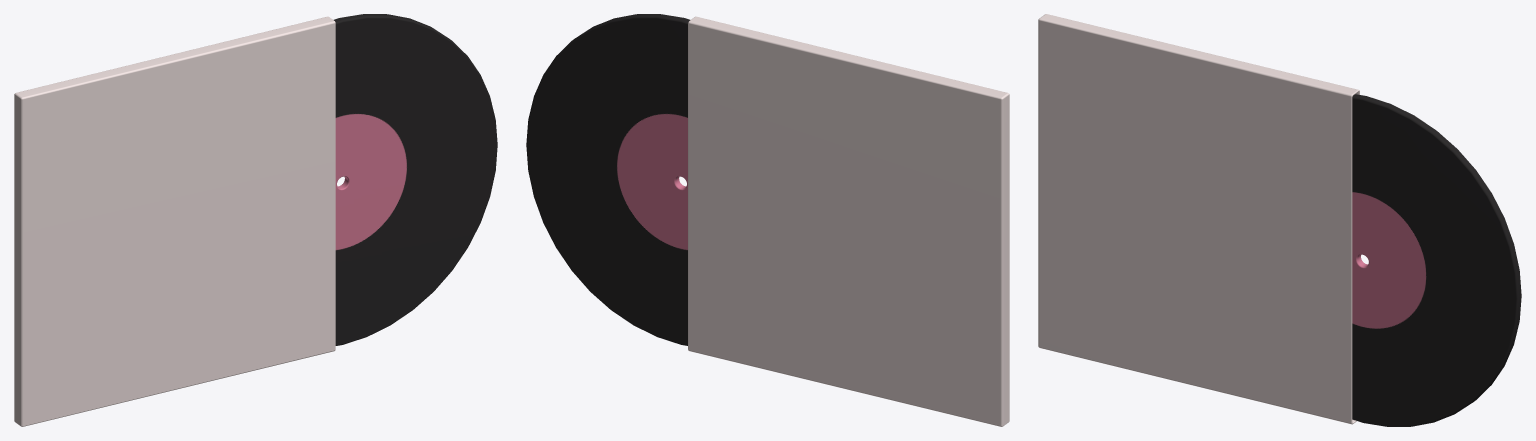
File: icons8_pink_vinyl_record_with_moсkup_cover.glb
The picture shows the model from 3 angles, left to right: view 1: azimuth 30°, elevation 25°; view 2: azimuth 150°, elevation 25°; view 3: azimuth 330°, elevation 25°; orthographic projection.
Parts seen in each view (by area): view 1: icons8_pink_vinyl_record_with_moсkup_cover; view 2: icons8_pink_vinyl_record_with_moсkup_cover; view 3: icons8_pink_vinyl_record_with_moсkup_cover.
Part boxes in pixels (x1,y1,x2,y2): icons8_pink_vinyl_record_with_moсkup_cover: [14, 14, 497, 426]; icons8_pink_vinyl_record_with_moсkup_cover: [526, 14, 1009, 426]; icons8_pink_vinyl_record_with_moсkup_cover: [1038, 14, 1521, 426].
Bounding box in the file's own units: 3.03 × 2 × 0.09.
Materials: 1 (1 with a texture image).
